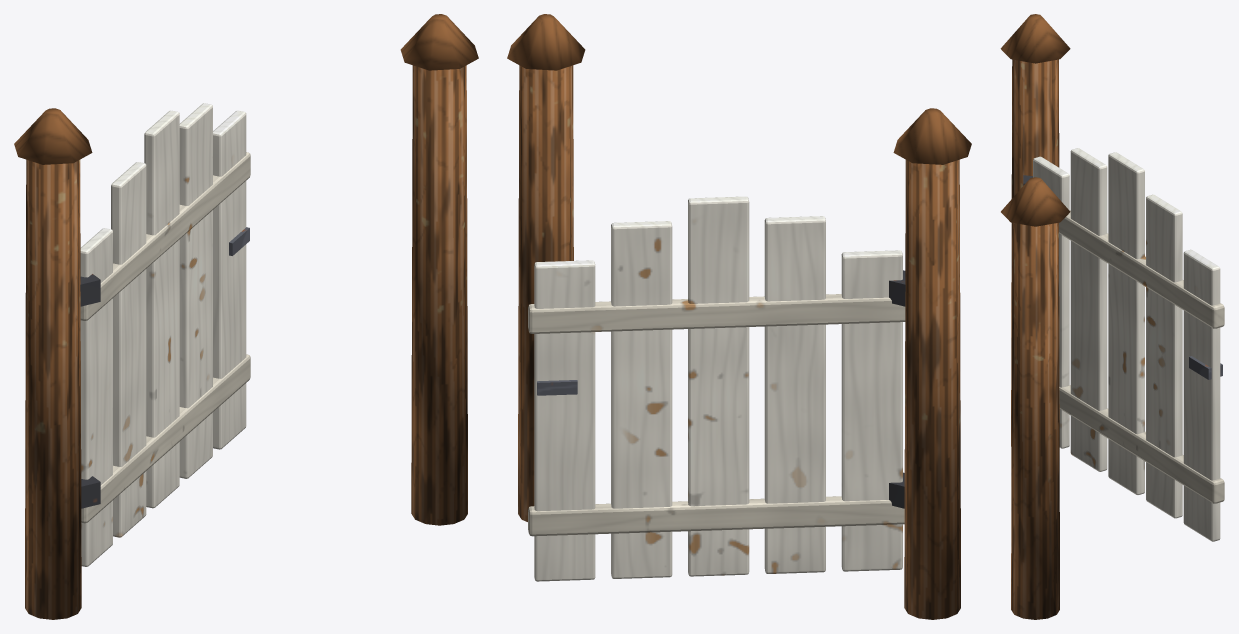
File: garden_gate.glb
3 renders of one model, left to right at view 1: azimuth 30°, elevation 25°; view 2: azimuth 150°, elevation 25°; view 3: azimuth 270°, elevation 25°, orthographic. The views are drawn at different scales.
Visible parts, largest first — view 1: GardenGate; view 2: GardenGate; view 3: GardenGate.
Boxes of the visible parts, x1,y1,x2,y2 form: GardenGate: [14, 14, 478, 619]; GardenGate: [507, 14, 971, 619]; GardenGate: [1000, 14, 1224, 619].
Size of the model in its own units: 1.3 by 1.35 by 0.6384.
Materials: 1 (1 with a texture image).
